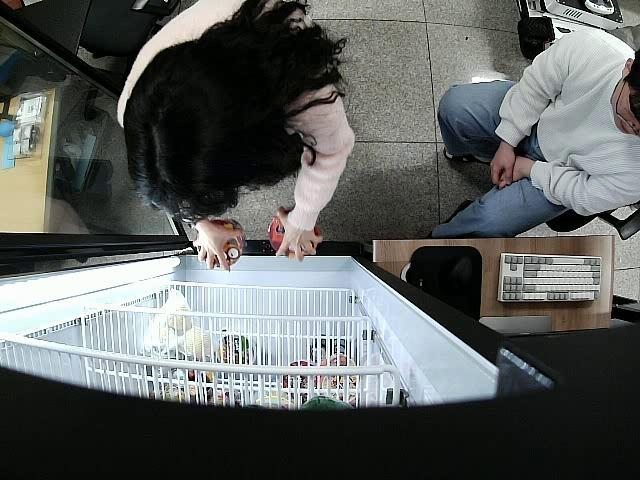05_nuguri_L: (267, 210, 322, 260), (195, 215, 246, 266)
